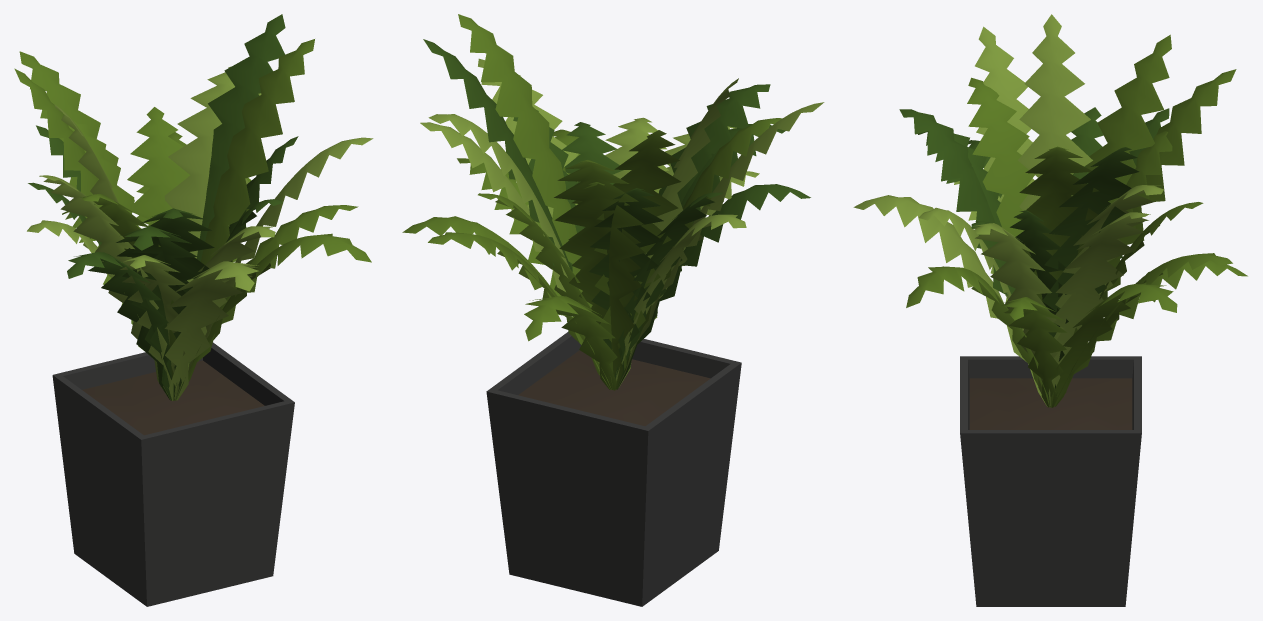
The model's file is greenery.desk-plant-fern.glb.
The picture shows the model from 3 angles, left to right: view 1: azimuth 30°, elevation 25°; view 2: azimuth 150°, elevation 25°; view 3: azimuth 270°, elevation 25°; orthographic projection. The views are drawn at different scales.
Visible parts, largest first — view 1: greenery.desk-plant-fern.001; view 2: greenery.desk-plant-fern.001; view 3: greenery.desk-plant-fern.001.
Part boxes in pixels (box(x1,y1,x2,y2)): greenery.desk-plant-fern.001: box(14, 14, 373, 606); greenery.desk-plant-fern.001: box(402, 14, 824, 606); greenery.desk-plant-fern.001: box(853, 14, 1247, 606).
Bounding box in the file's own units: 0.3 × 0.42 × 0.3.
